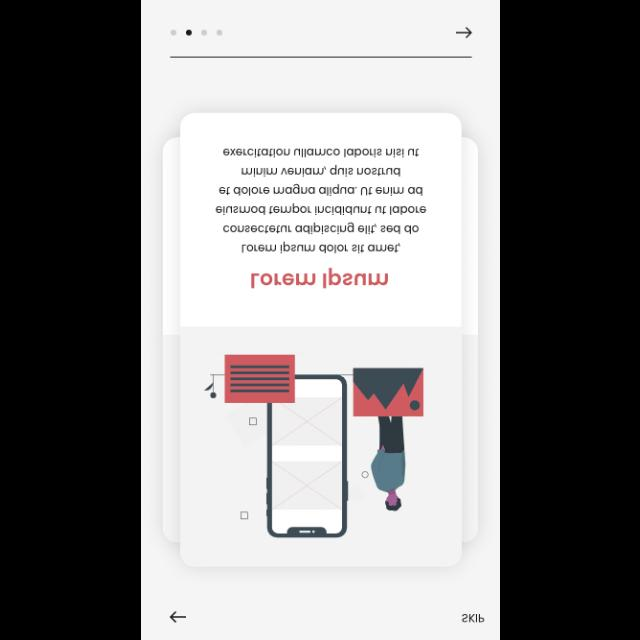icon: (168, 610, 186, 622), (456, 27, 472, 39)
image: (204, 354, 423, 538)
pageindicator: (170, 29, 223, 36)
panel: (179, 112, 463, 568)
text: (215, 148, 427, 254), (250, 267, 388, 289), (462, 612, 484, 622)
